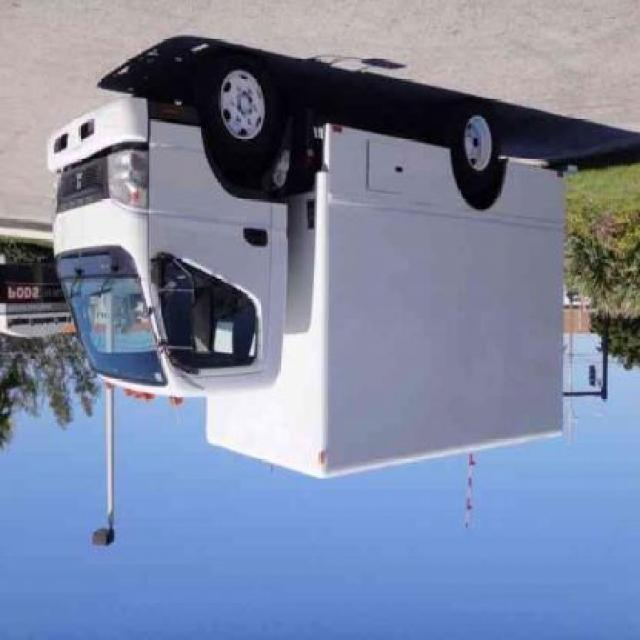truck: (47, 55, 567, 482)
